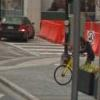Bicycle: (48, 42, 96, 87)
